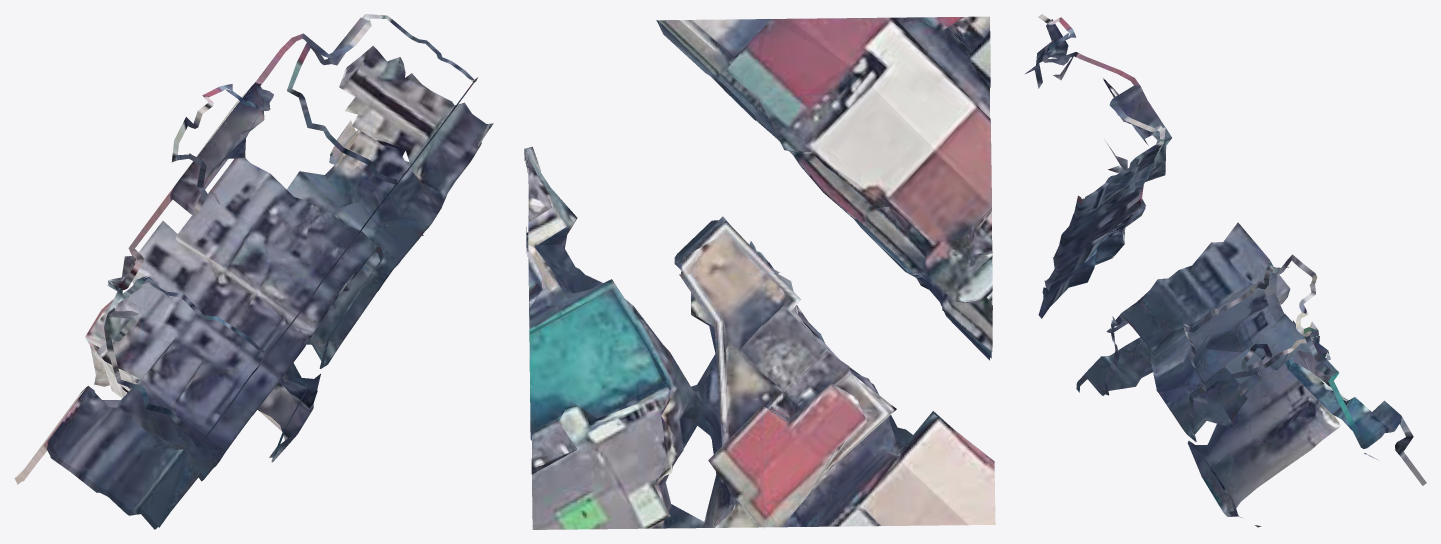
3 renders of one model, left to right at view 1: azimuth 30°, elevation 25°; view 2: azimuth 150°, elevation 25°; view 3: azimuth 270°, elevation 25°, orthographic. The views are drawn at different scales.
Size of the model in its own units: 41.58 by 39.9 by 34.07.
2 materials, 2 textured.
